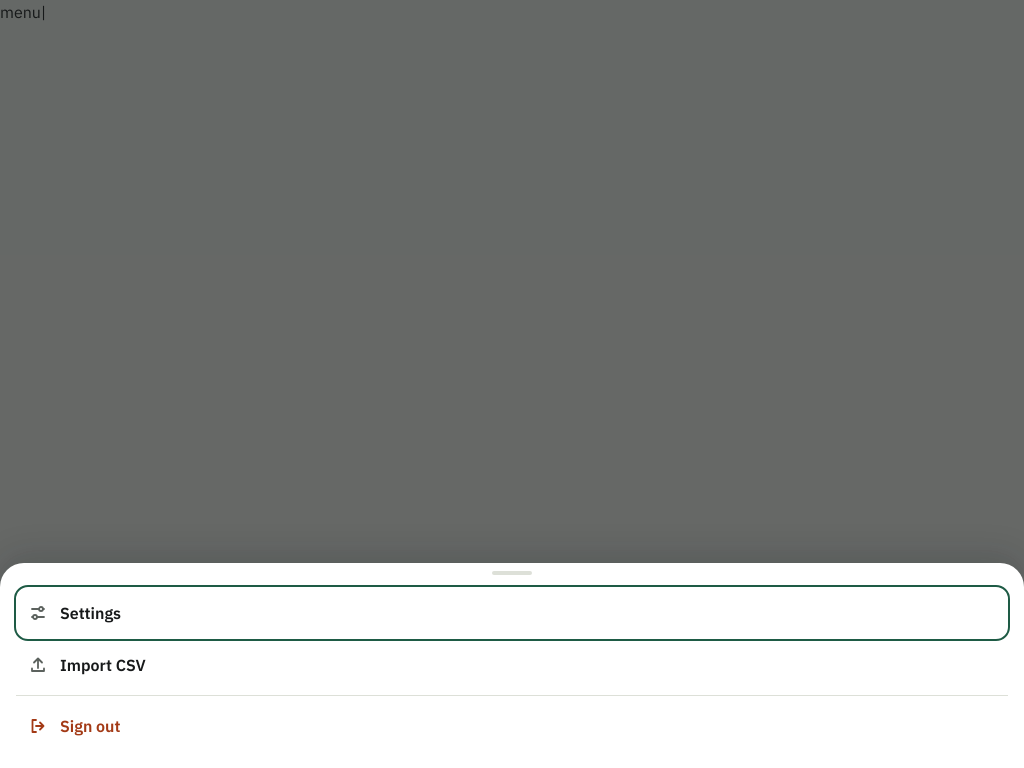
Test: AccountMenu › closes from its backdrop
Click the button named "Close menu" at (512, 384), box 0,0 -> 1023,767
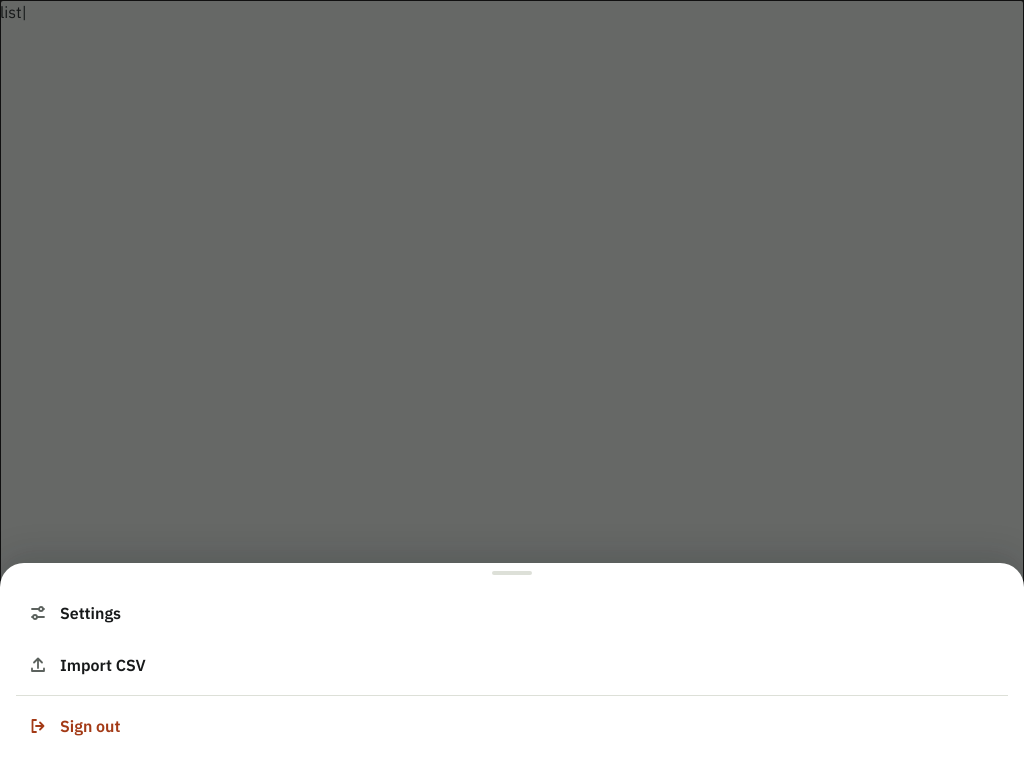
Expected: the text with test id "state" shows "list", 0,2 -> 22,22
